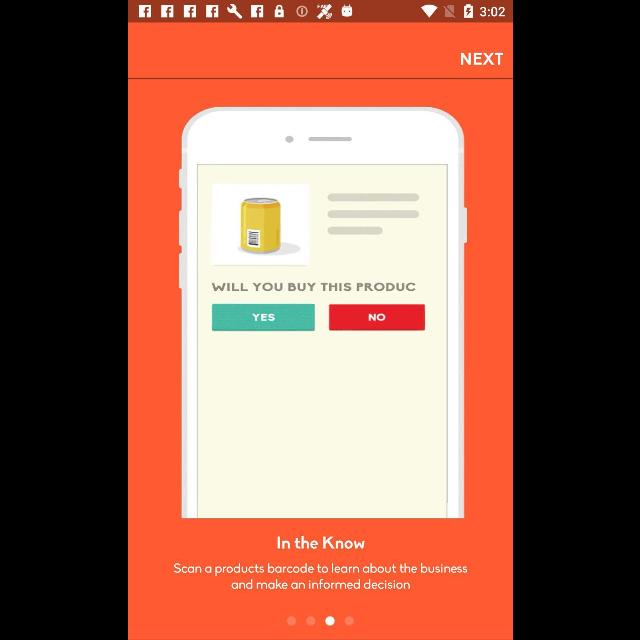image: (178, 107, 466, 519)
pageindicator: (286, 616, 354, 626)
text: (173, 562, 467, 590), (276, 536, 364, 550), (460, 52, 502, 66)
uppertaskbar: (128, 1, 512, 23)
